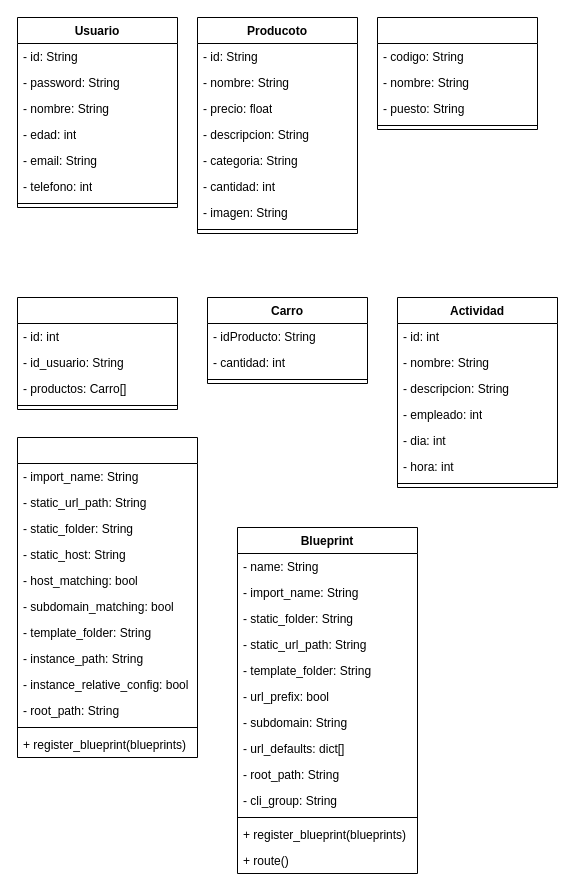
The diagram is 575 pixels wide and 894 high, and some of its shapes have lost their labels. Each missing label, with the box of its shape:
Comprar: (16, 296, 178, 410)
Empleado: (376, 16, 538, 130)
Flask: (16, 436, 198, 758)
